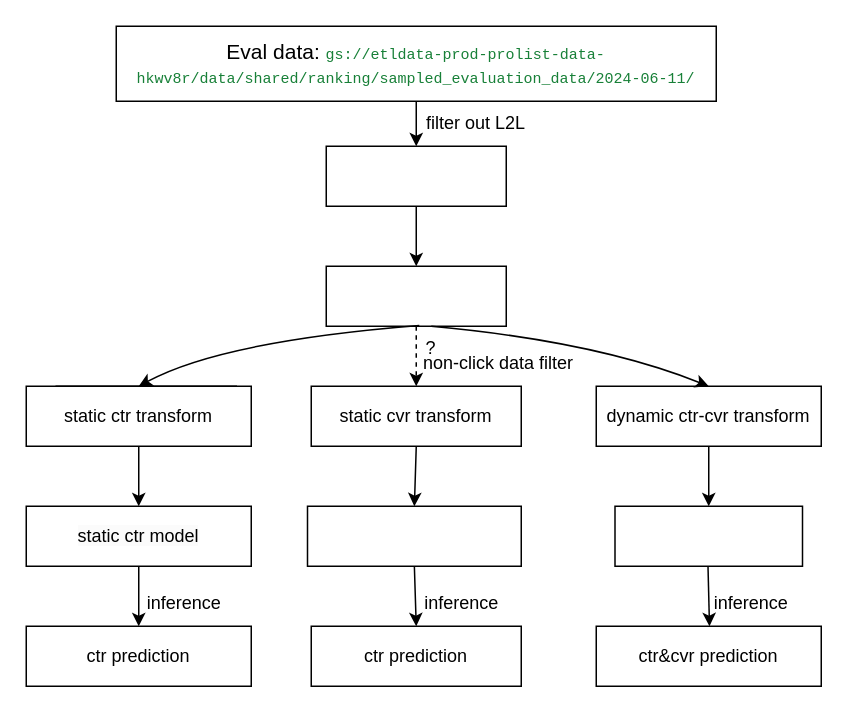
Some shapes in this 848 by 713 pixel diagram are drawn without their labels. Each missing label, with the centre of its shape:
dynamic ctr-cvr model: point 708,535
Q2L only data: point 415,175
shuffled data: point 415,295
static cvr model: point 413,535
